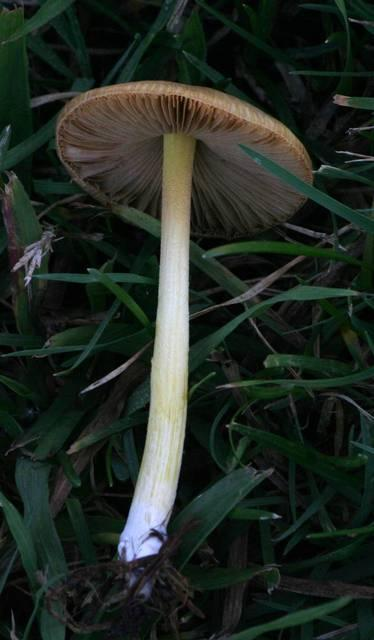Edible Mushroom: (53, 78, 314, 598)
